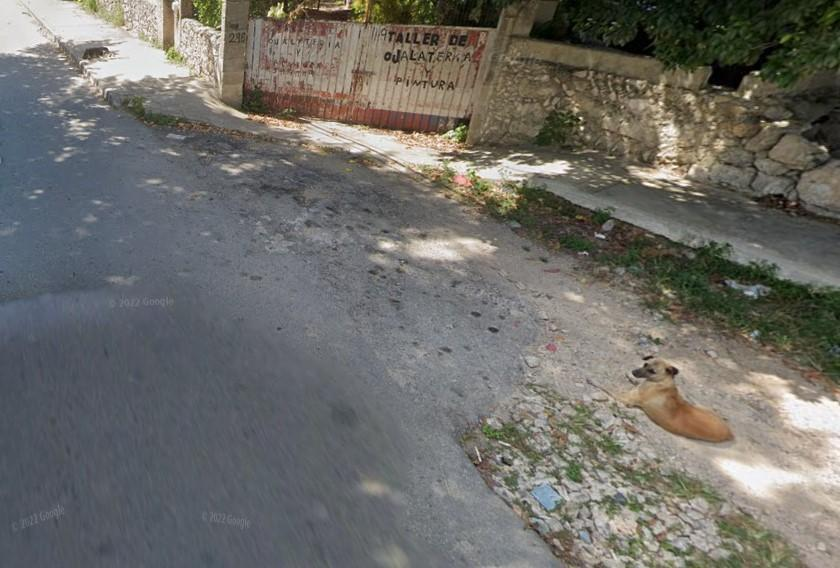normal_dogs: (578, 332, 752, 464)
